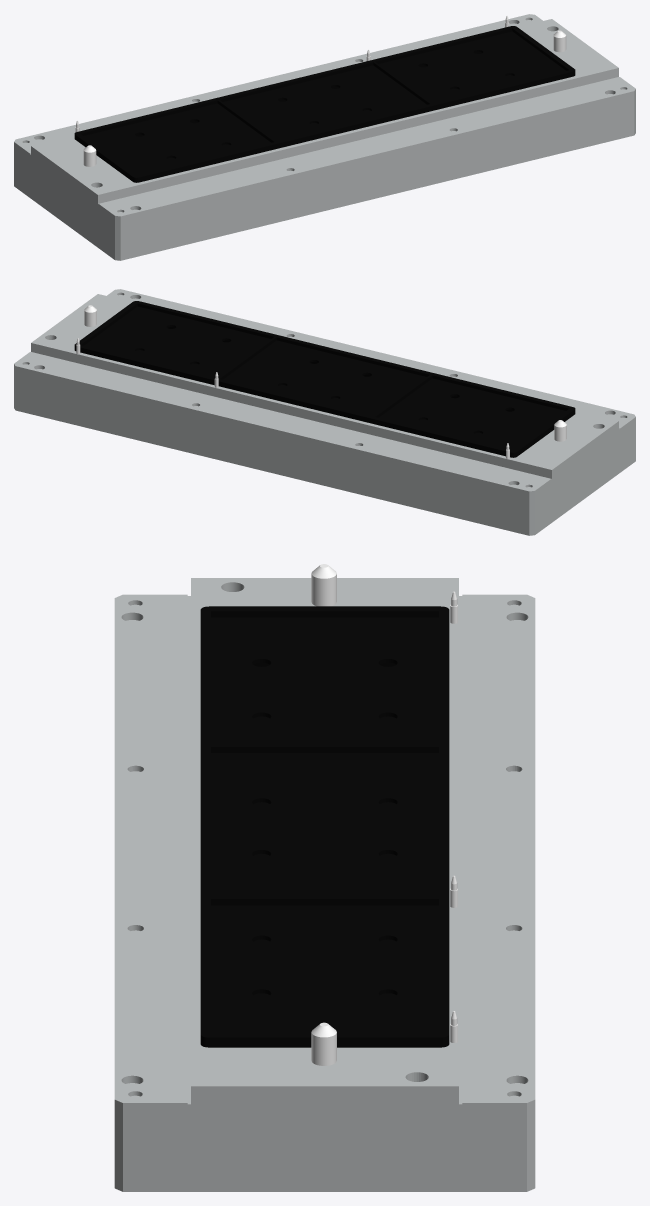
Rendered from STRIP PICKER.glb.
The picture shows the model from 3 angles, top to bottom: view 1: azimuth 30°, elevation 25°; view 2: azimuth 150°, elevation 25°; view 3: azimuth 270°, elevation 25°; orthographic projection. The views are drawn at different scales.
Parts seen in each view (by area): view 1: Bottom, top, port; view 2: Bottom, top, port; view 3: Bottom, top, port.
Boxes of the visible parts, x1=… form: Bottom: x1=14, y1=14, x2=635, y2=260; top: x1=74, y1=26, x2=575, y2=182; port: x1=83, y1=30, x2=566, y2=166; Bottom: x1=14, y1=289, x2=635, y2=535; top: x1=74, y1=301, x2=575, y2=457; port: x1=84, y1=305, x2=566, y2=441; Bottom: x1=114, y1=578, x2=535, y2=1191; top: x1=200, y1=606, x2=449, y2=1047; port: x1=311, y1=564, x2=336, y2=1065.
Size of the model in its own units: 24.97 by 3.25 by 8.73.
3 materials, 1 textured.
